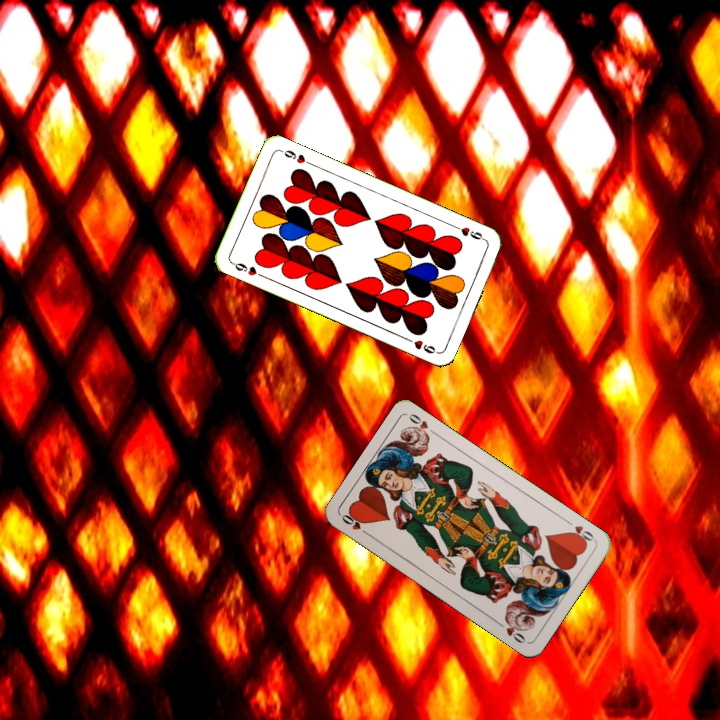H9: (227, 258, 266, 280), (449, 221, 488, 243)
HO: (561, 516, 597, 547), (337, 509, 373, 539)
